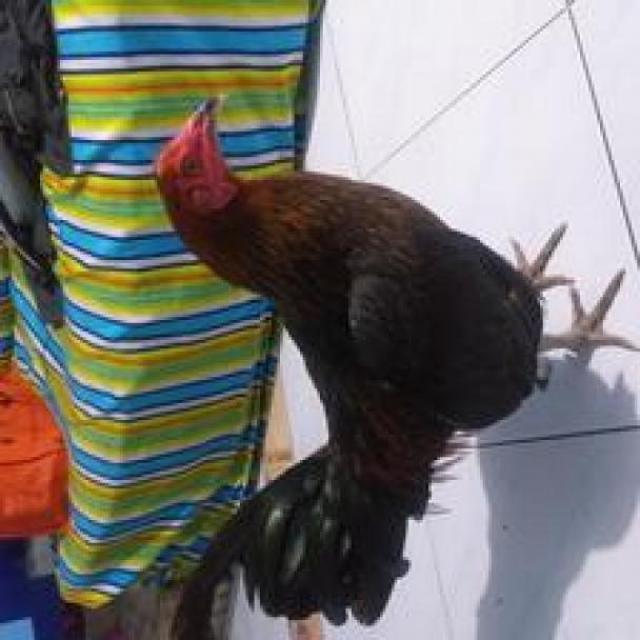Chicken: (156, 83, 640, 633)
